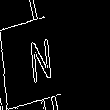N_N: (42, 27, 68, 83)
